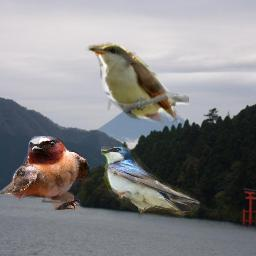Cuckoo: (85, 37, 189, 123)
Swallow: (101, 146, 200, 220), (0, 136, 89, 210)
